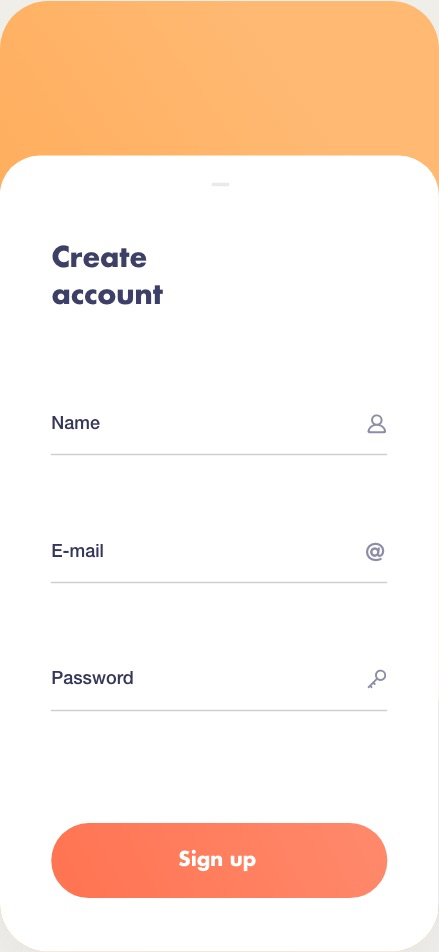EditText: (52, 414, 388, 456), (52, 670, 388, 712), (52, 543, 388, 584)
Icon: (367, 414, 386, 434), (366, 543, 385, 562)
Image: (368, 669, 387, 689)
Text: (53, 245, 164, 306), (53, 671, 134, 685), (52, 543, 104, 558), (53, 417, 101, 430)
TextButton: (52, 823, 388, 899)
